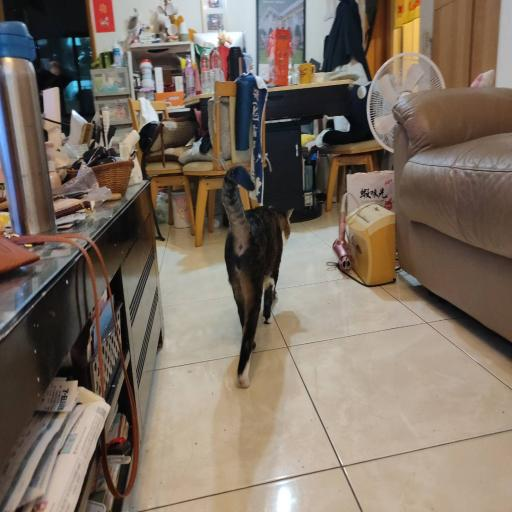cat: (226, 202, 288, 366)
